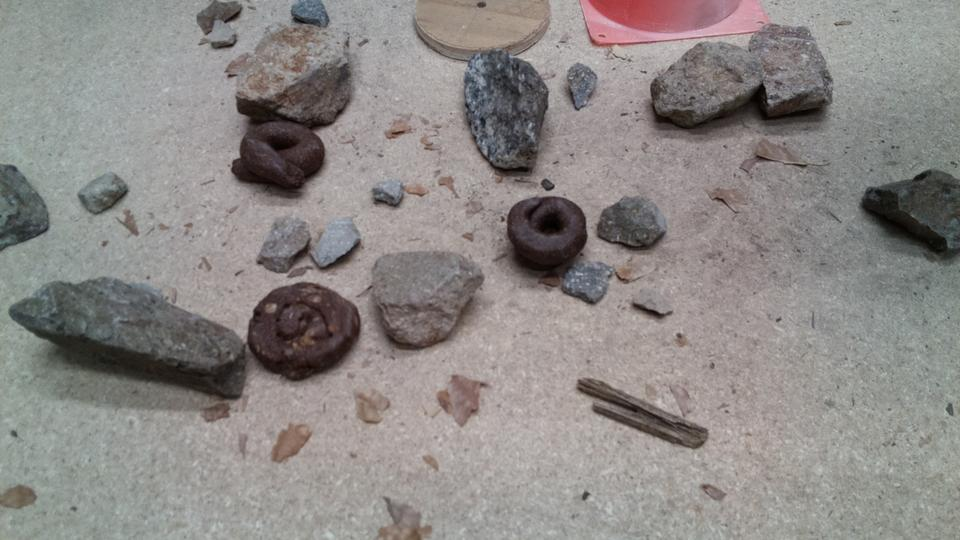poop: (248, 280, 362, 379), (229, 121, 327, 189), (507, 194, 588, 270)
